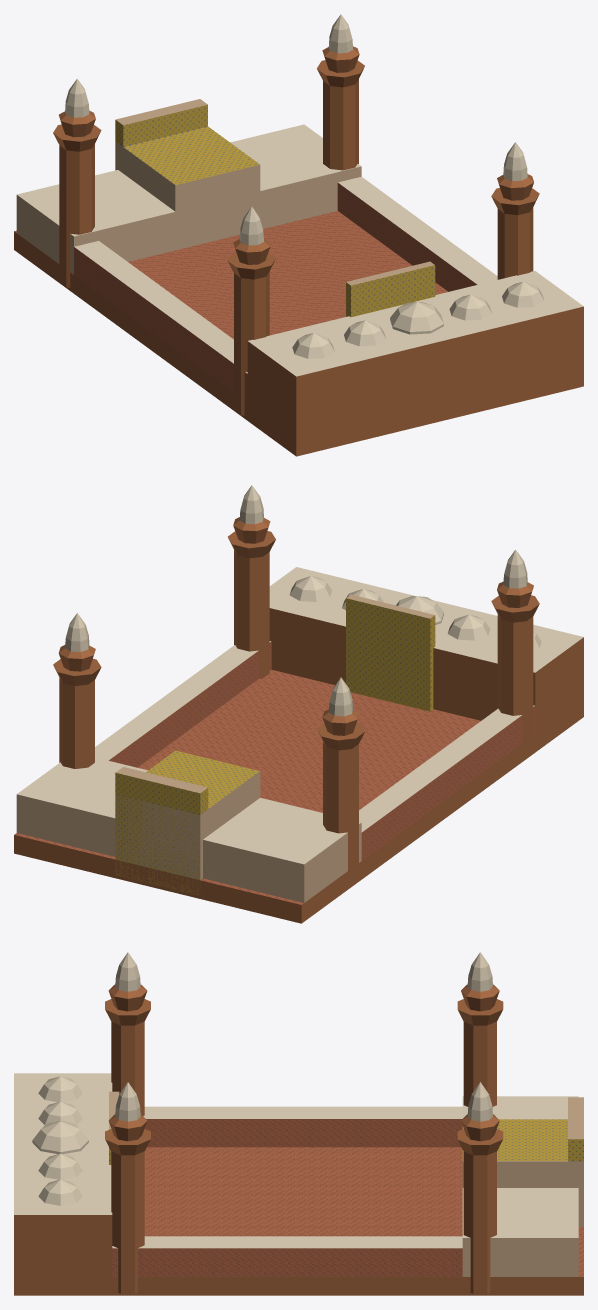
Rendered from wazir_khan_mosque_far.glb.
3 views of the same model, one above another, from view 1: azimuth 30°, elevation 25°; view 2: azimuth 150°, elevation 25°; view 3: azimuth 270°, elevation 25° (orthographic).
Parts seen in each view (by area): view 1: m_brick_warm, m_parapet_cream, m_brick_floor, m_lime_plaster, m_tile_yellow, m_brick_red, m_dome_plaster; view 2: m_brick_warm, m_parapet_cream, m_brick_floor, m_tile_yellow, m_lime_plaster, m_brick_red, m_dome_plaster; view 3: m_brick_warm, m_brick_floor, m_parapet_cream, m_brick_red, m_dome_plaster, m_lime_plaster, m_tile_yellow.
Boxes of the visible parts, left/top/right/bottom form: m_brick_warm: left=14, top=46, right=583, bottom=456; m_parapet_cream: left=17, top=124, right=583, bottom=376; m_brick_floor: left=14, top=211, right=447, bottom=339; m_lime_plaster: left=16, top=99, right=434, bottom=285; m_tile_yellow: left=115, top=105, right=435, bottom=317; m_brick_red: left=74, top=183, right=477, bottom=401; m_dome_plaster: left=65, top=14, right=544, bottom=358; m_brick_warm: left=14, top=517, right=583, bottom=923; m_parapet_cream: left=17, top=567, right=583, bottom=864; m_brick_floor: left=14, top=669, right=480, bottom=904; m_tile_yellow: left=115, top=598, right=435, bottom=894; m_lime_plaster: left=16, top=594, right=434, bottom=902; m_brick_red: left=109, top=641, right=535, bottom=860; m_dome_plaster: left=65, top=485, right=541, bottom=716; m_brick_warm: left=14, top=984, right=583, bottom=1295; m_brick_floor: left=144, top=1147, right=583, bottom=1276; m_parapet_cream: left=14, top=1073, right=578, bottom=1248; m_brick_red: left=112, top=1119, right=462, bottom=1276; m_dome_plaster: left=32, top=952, right=492, bottom=1205; m_lime_plaster: left=109, top=1091, right=583, bottom=1276; m_tile_yellow: left=109, top=1119, right=583, bottom=1164.
Size of the model in its own units: 52.54 by 34.1 by 84.83.
Materials: 7 (3 with a texture image).
